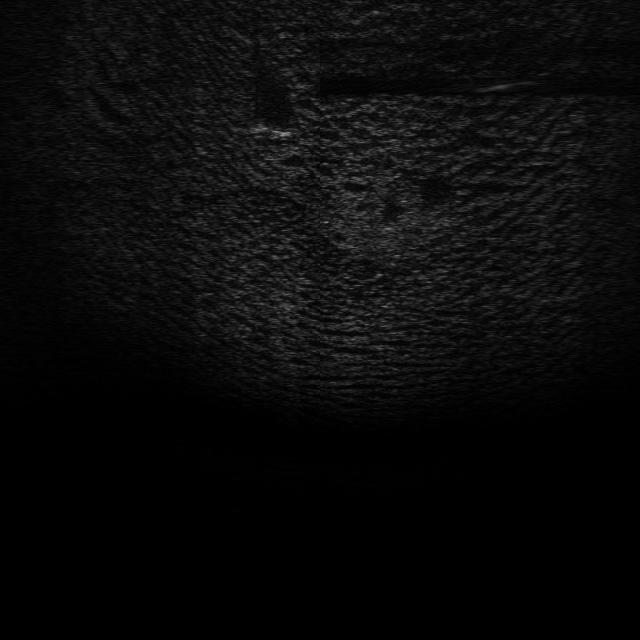plane: (248, 116, 301, 143)
